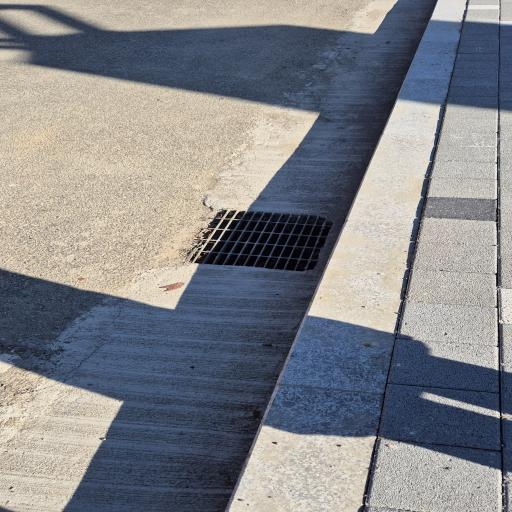drain: (186, 209, 335, 272)
